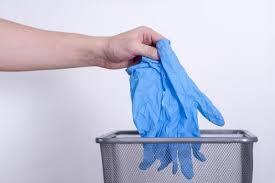Glove: (127, 40, 223, 137)
